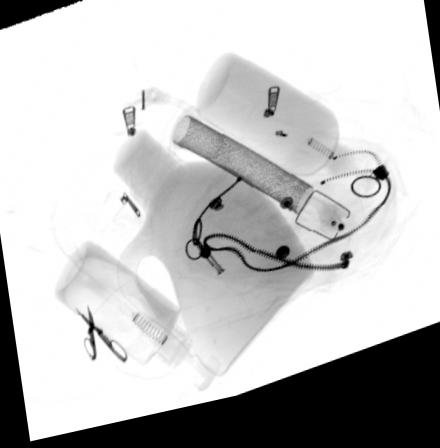Scissors: (73, 309, 129, 369)
